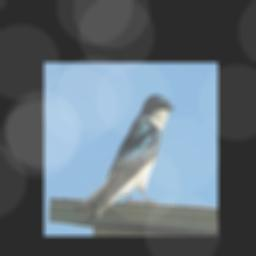Swallow: (72, 93, 177, 223)
